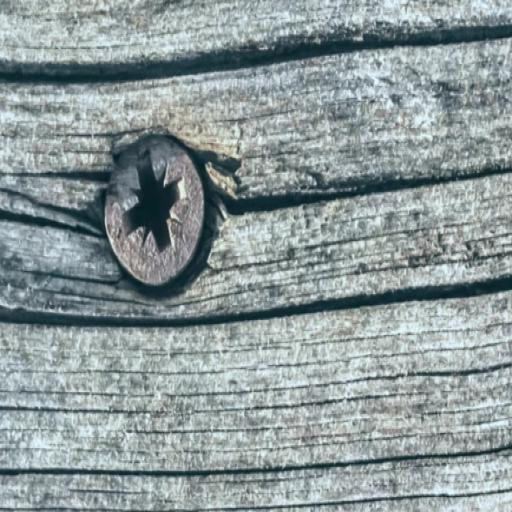Phillips: (100, 128, 215, 302)
